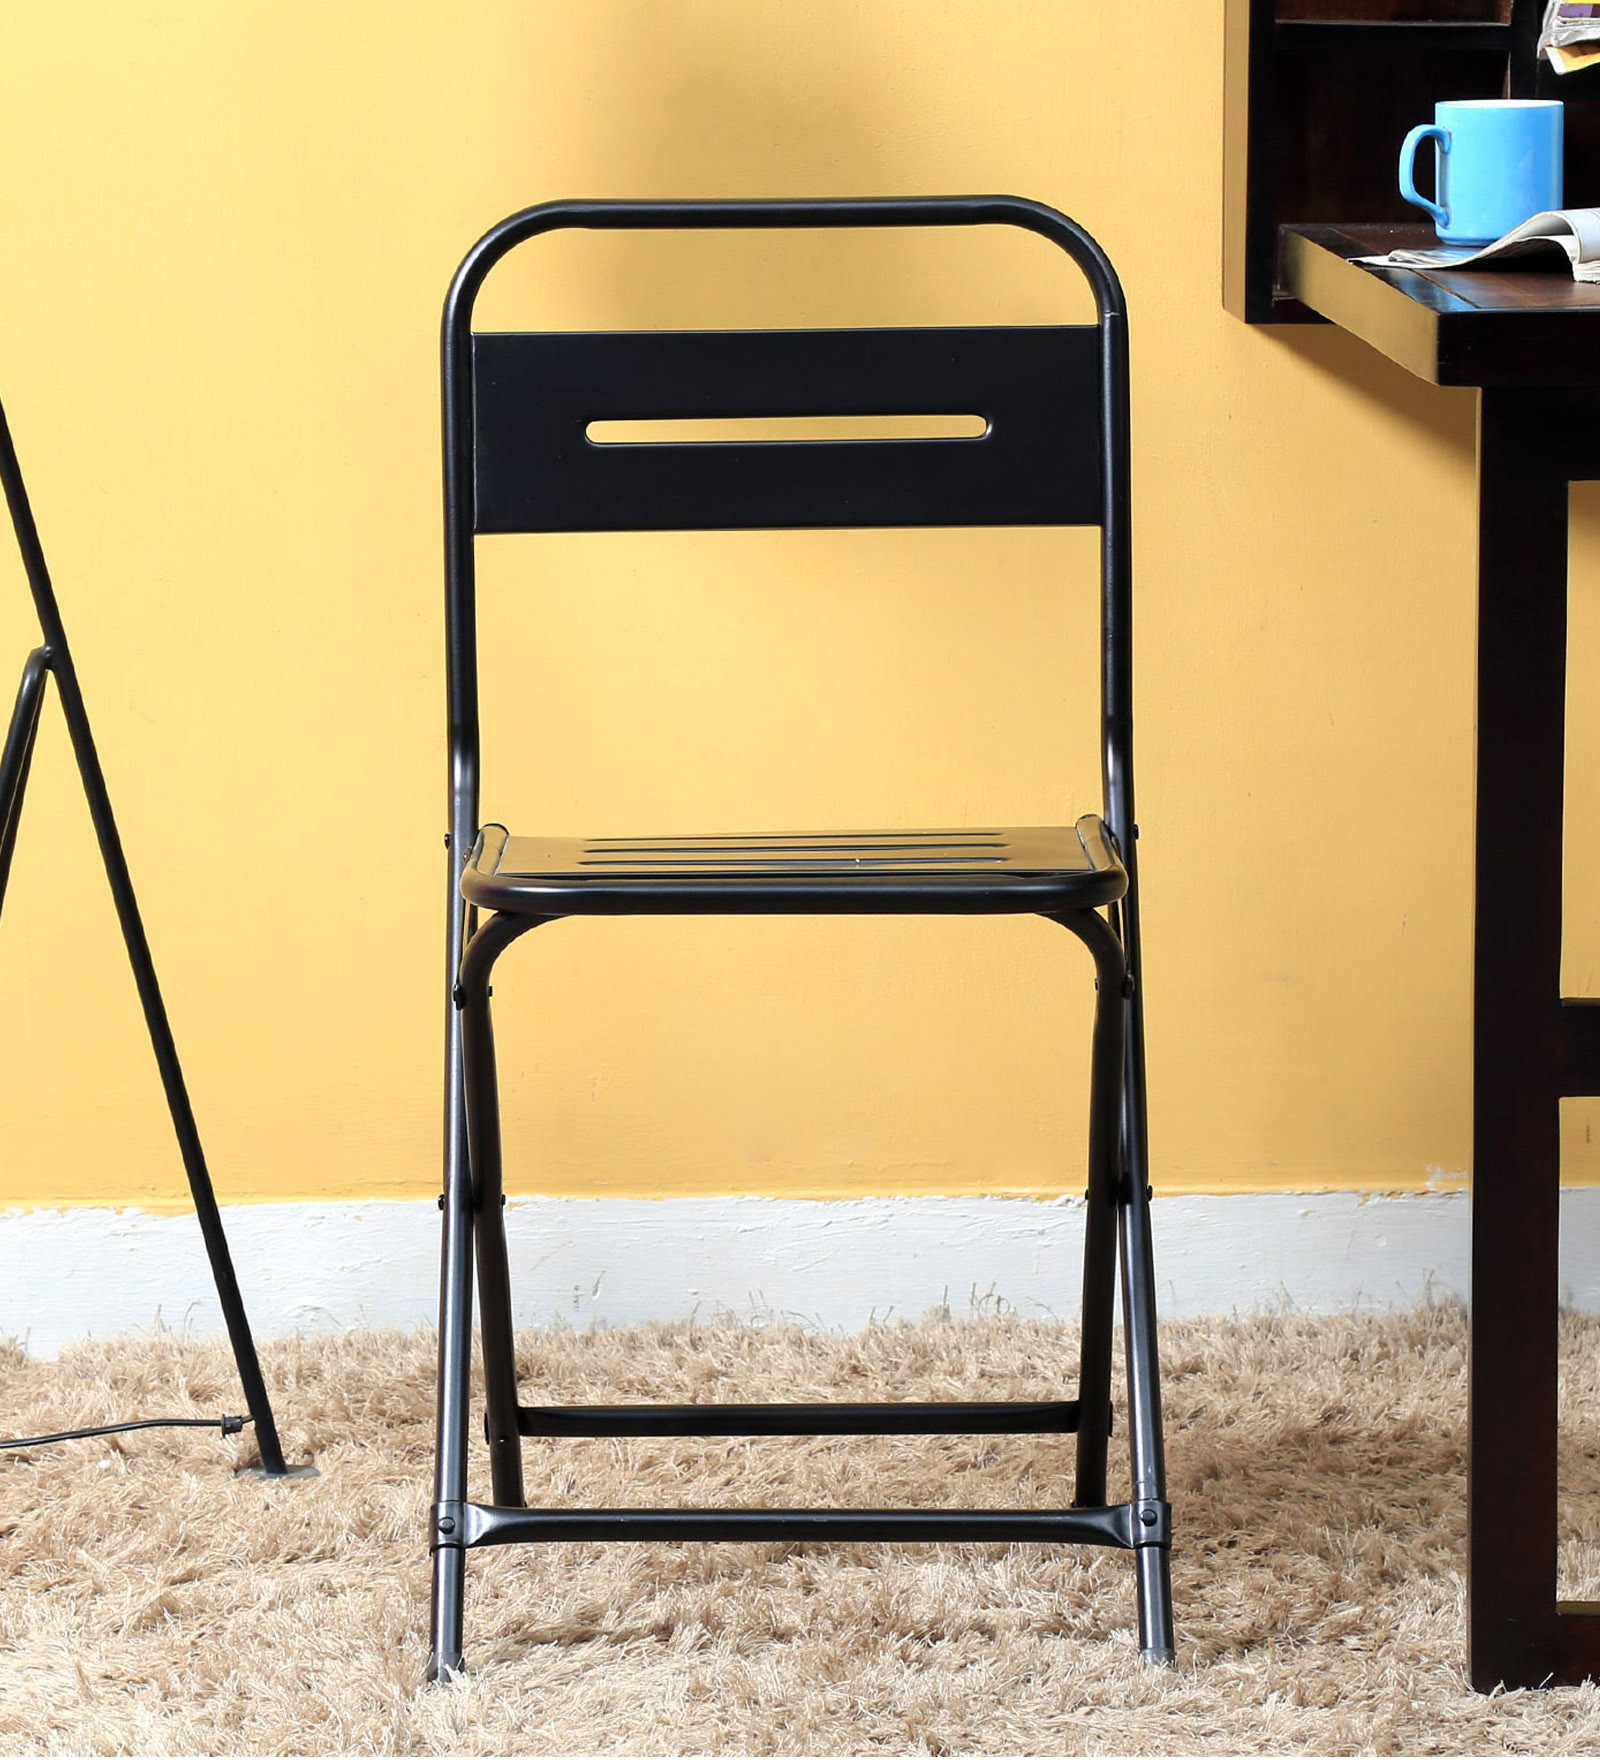Marandoo Grunge Black Outdoor Folding Chair by Bohemiana: (425, 173, 1185, 1679)
